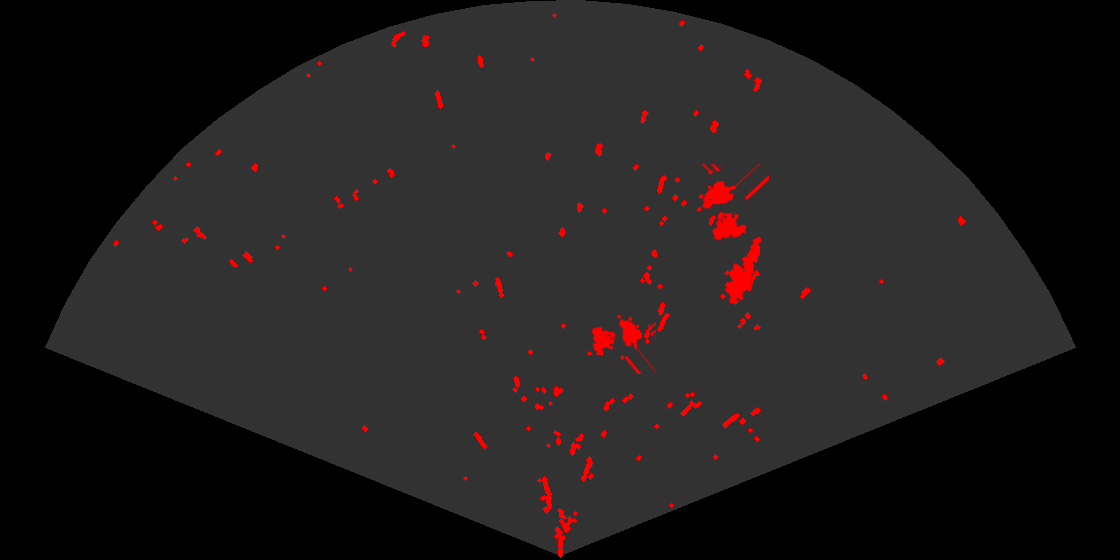cage: (695, 164, 769, 242), (590, 313, 656, 374)
frogman: (723, 235, 763, 303)
